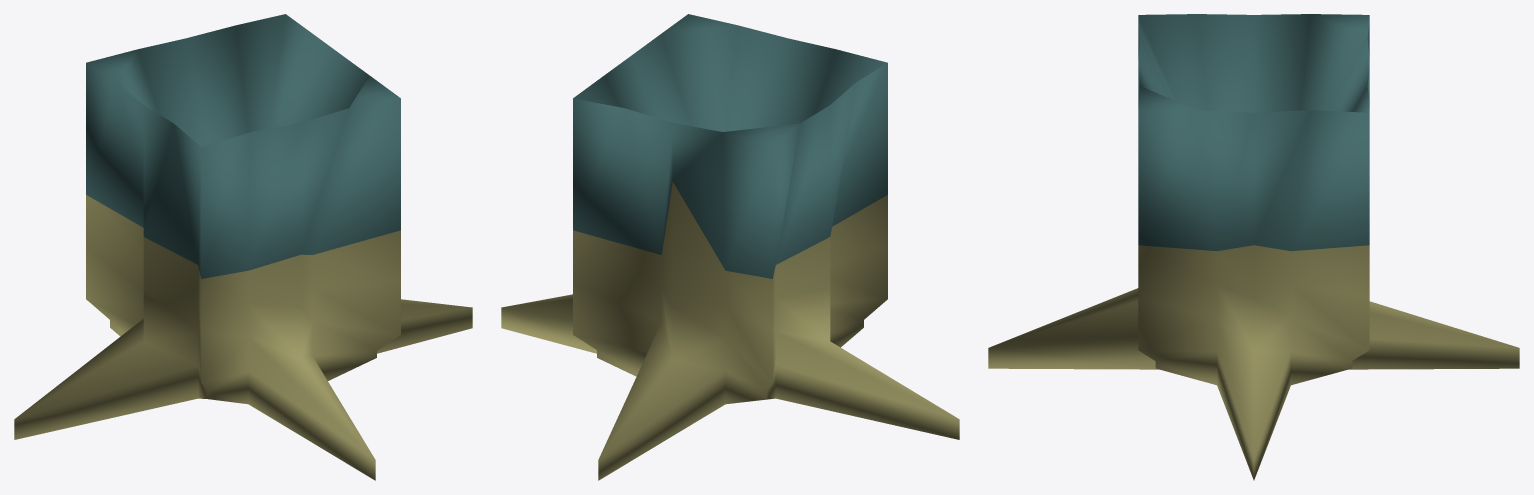
File: pot.fbx
3 renders of one model, left to right at view 1: azimuth 30°, elevation 25°; view 2: azimuth 150°, elevation 25°; view 3: azimuth 270°, elevation 25°, orthographic.
Visible parts, largest first — view 1: Cube; view 2: Cube; view 3: Cube.
Part boxes in pixels (<box>): Cube: <box>14,14,472,480</box>; Cube: <box>501,14,959,480</box>; Cube: <box>988,14,1519,480</box>.
Size of the model in its own units: 7.18 by 4.57 by 7.18.
